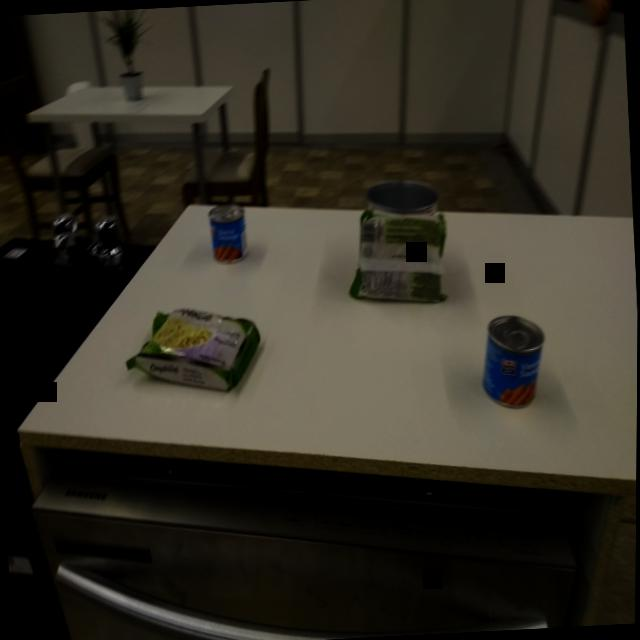noodles: (122, 299, 266, 402), (341, 198, 456, 312)
sausages: (477, 309, 551, 416), (206, 198, 254, 268)
